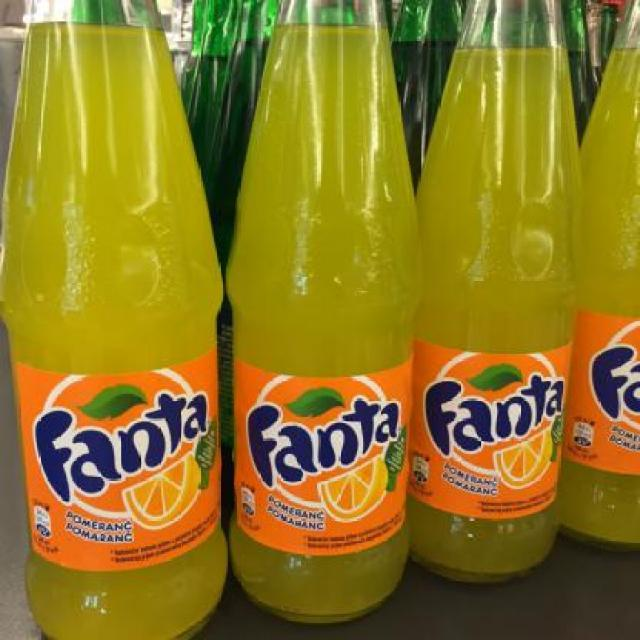Fanta: (5, 3, 230, 639), (214, 8, 414, 628), (414, 4, 586, 588)
